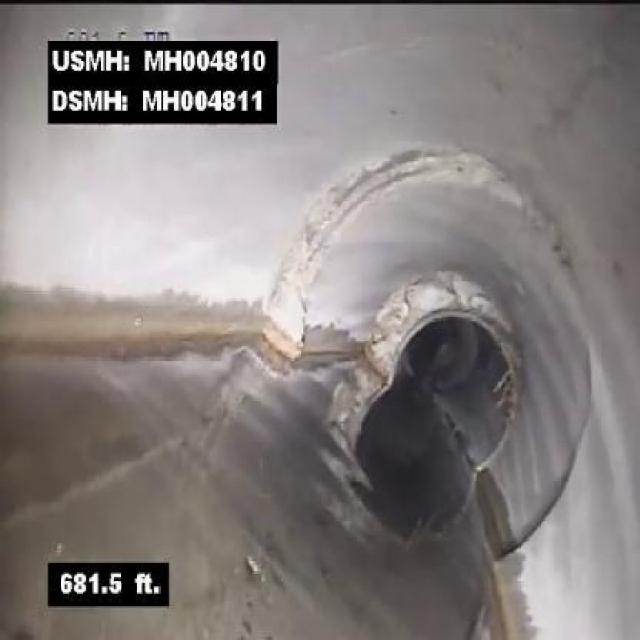Joint offset: (257, 168, 348, 362), (359, 132, 526, 205)
